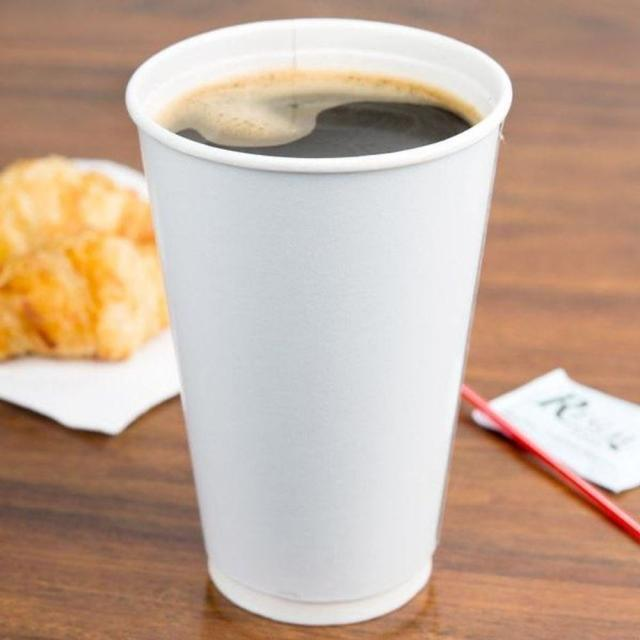paper cup: (126, 18, 514, 626)
